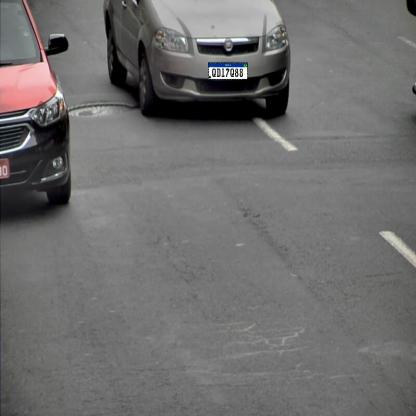PlacaM: (208, 62, 248, 80)
